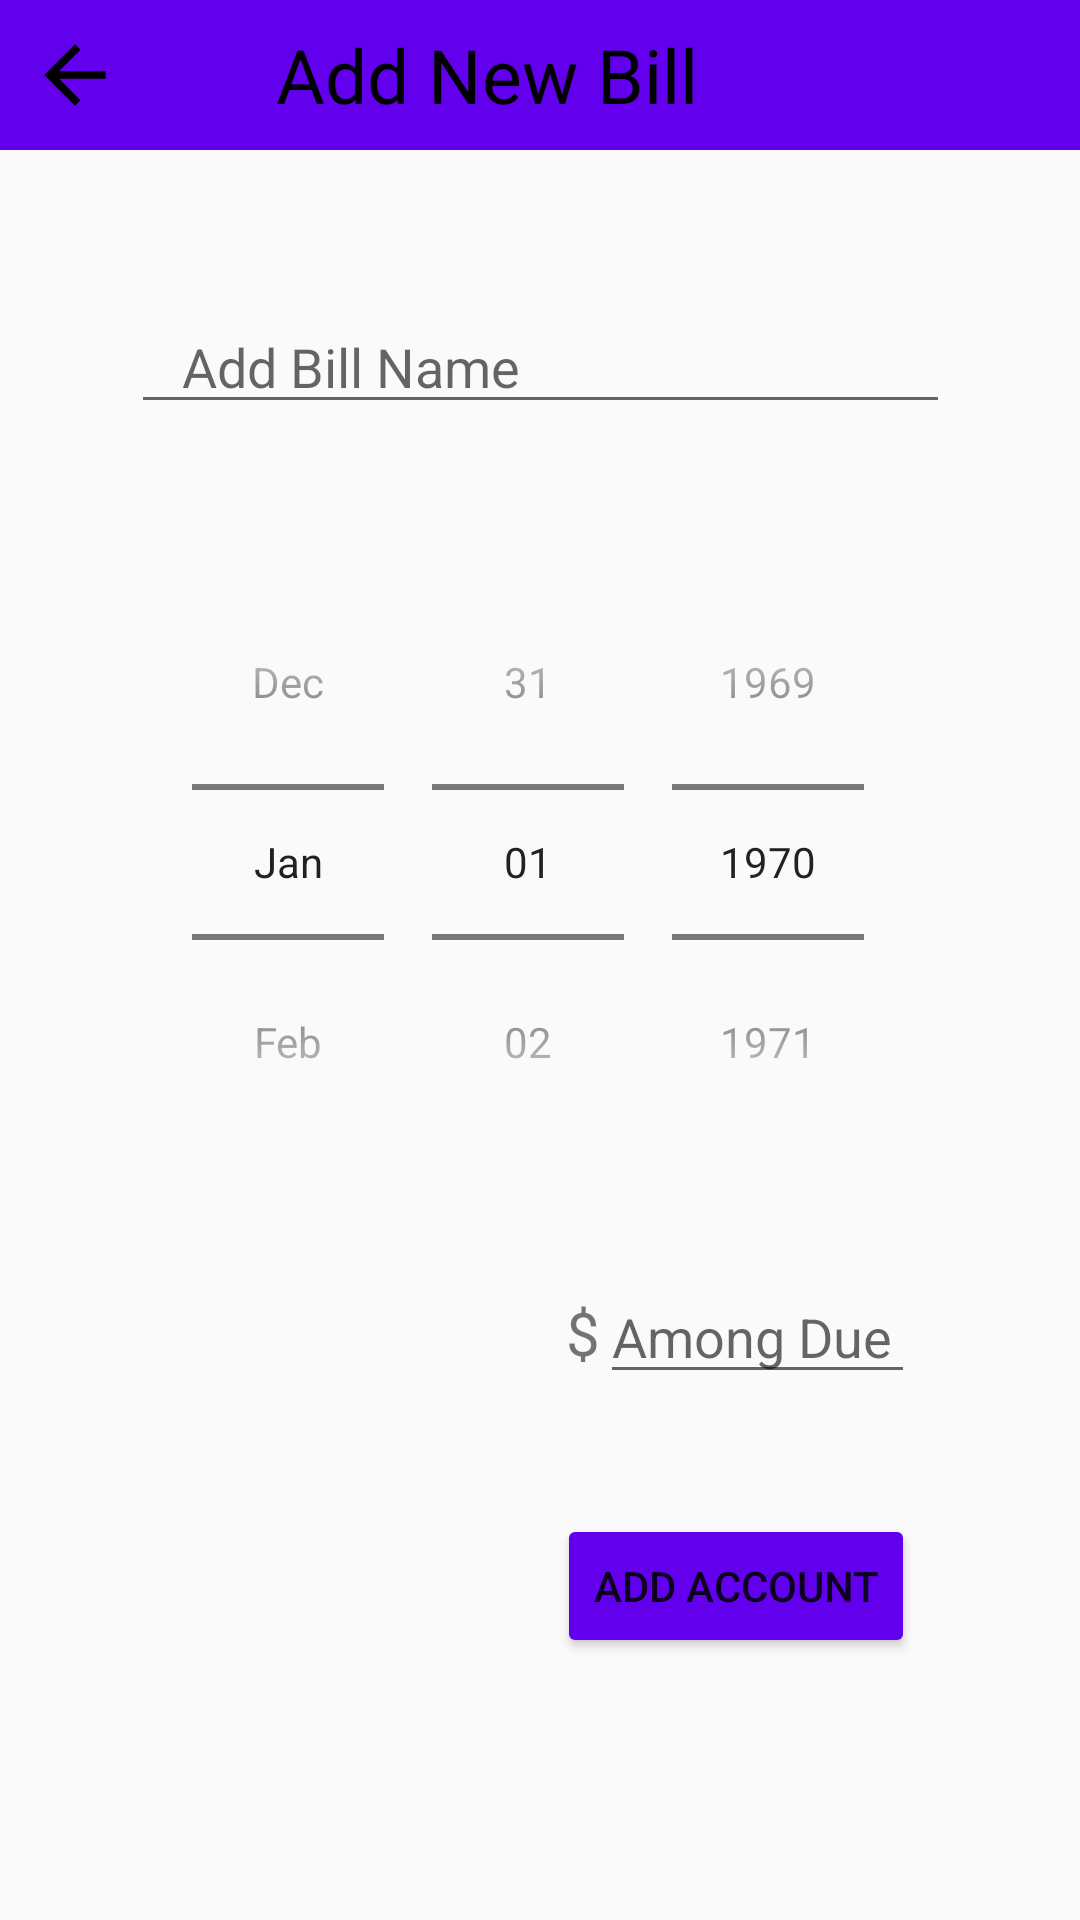

Where icons sit on this 1080w x 1920h app screen, as (x1, y1, x2, y2):
back arrow: (44, 44, 106, 106)
